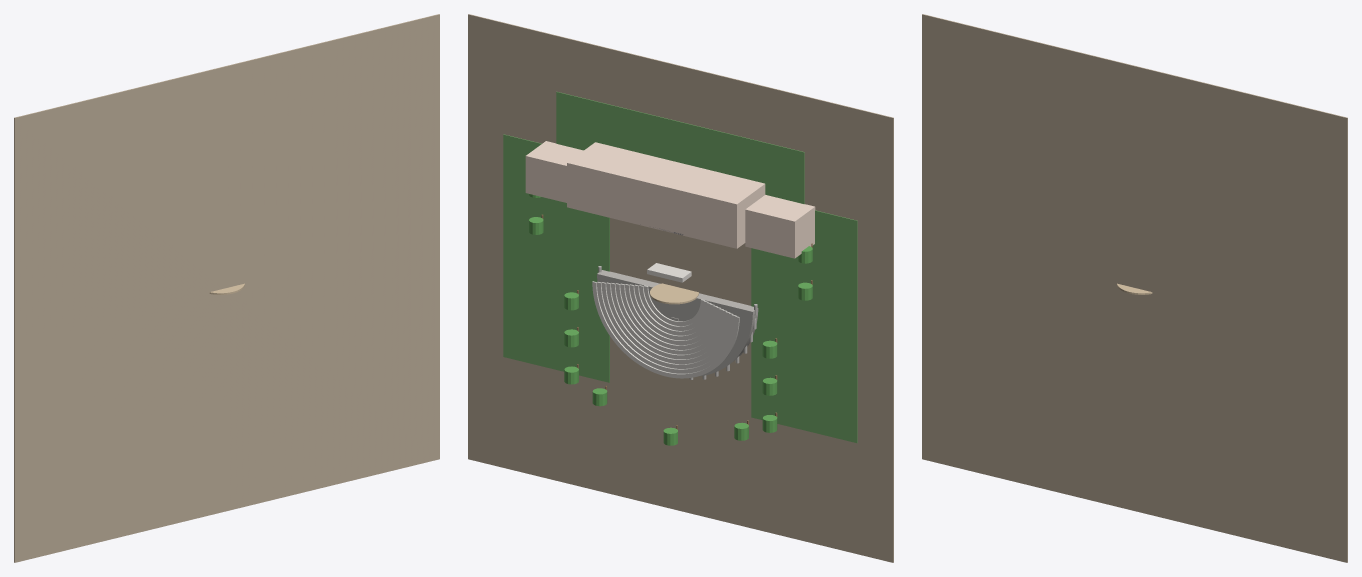
File: OAT.glb
The picture shows the model from 3 angles, left to right: view 1: azimuth 30°, elevation 25°; view 2: azimuth 150°, elevation 25°; view 3: azimuth 330°, elevation 25°; orthographic projection.
Visible parts, largest first — view 1: Ground; view 2: Ground, Grass_-35, Grass_35, BldgMain, Grass_0, BldgWingL, BasePlatform, BldgWingR, SeatRow_11, SeatRow_10, SeatRow_09, SeatRow_08 (+9 smaller); view 3: Ground.
Part boxes in pixels (bbox=[...]): Ground: bbox=[14, 14, 439, 562]; Ground: bbox=[468, 14, 893, 562]; Grass_-35: bbox=[751, 210, 857, 443]; Grass_35: bbox=[503, 134, 609, 382]; BldgMain: bbox=[567, 142, 765, 248]; Grass_0: bbox=[556, 91, 804, 204]; BldgWingL: bbox=[745, 195, 815, 258]; BasePlatform: bbox=[597, 270, 758, 376]; BldgWingR: bbox=[525, 141, 583, 202]; SeatRow_11: bbox=[592, 281, 739, 378]; SeatRow_10: bbox=[597, 282, 736, 373]; SeatRow_09: bbox=[601, 282, 733, 368]; SeatRow_08: bbox=[606, 282, 730, 364]; Ground: bbox=[922, 14, 1347, 562].
Bounding box in the file's own units: 120 × 120 × 16.97.
